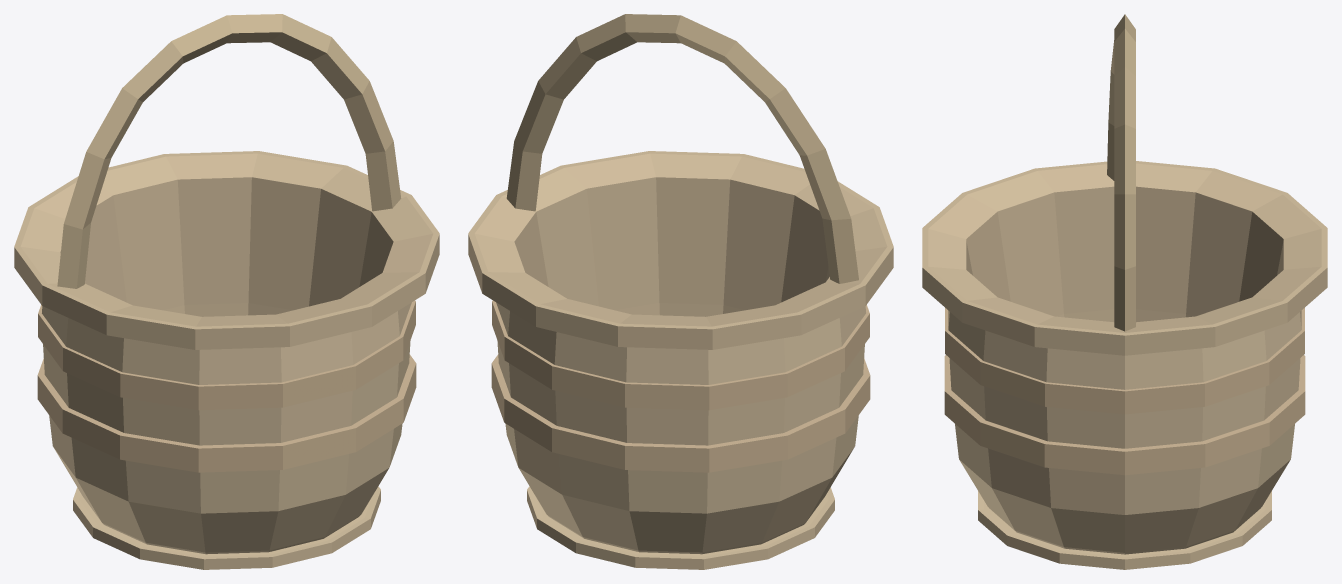
The model's file is basket.fbx.
3 renders of one model, left to right at view 1: azimuth 30°, elevation 25°; view 2: azimuth 150°, elevation 25°; view 3: azimuth 270°, elevation 25°, orthographic. The views are drawn at different scales.
Parts seen in each view (by area): view 1: low_poly_basket; view 2: low_poly_basket; view 3: low_poly_basket.
Part boxes in pixels (left/top/right/bottom): low_poly_basket: left=14, top=14, right=439, bottom=569; low_poly_basket: left=468, top=14, right=893, bottom=569; low_poly_basket: left=922, top=14, right=1327, bottom=569.
Bounding box in the file's own units: 112 × 142 × 110.
